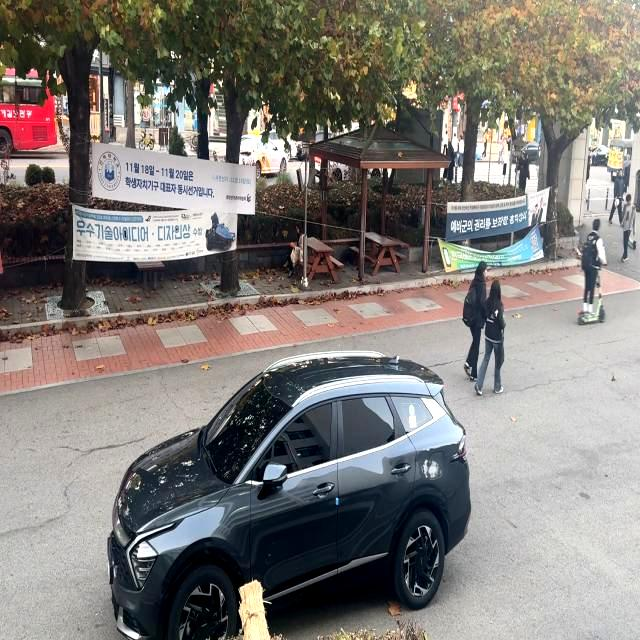bare_head: (590, 217, 606, 232)
human: (579, 211, 599, 312)
kickboard: (573, 301, 608, 328)
